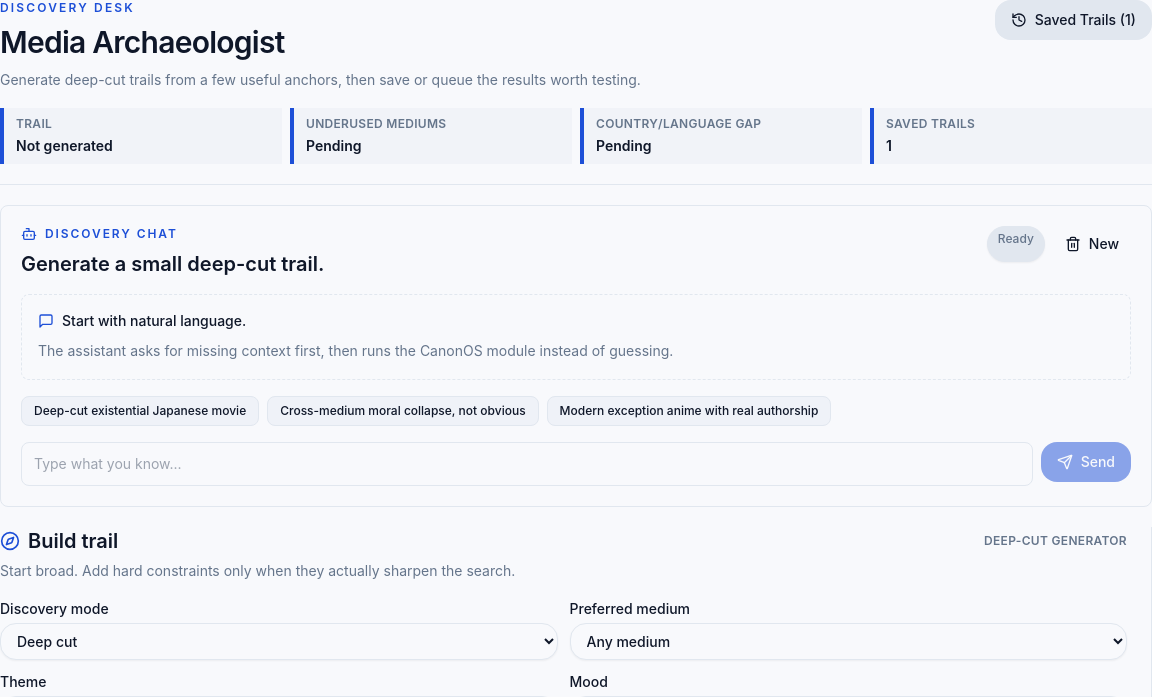
Test: MediaArchaeologistPage › shows and deletes saved trails
The width and height of the screenshot is (1152, 697).
What coordinates should you click on to do the following:
click the button "Saved Trails (1)"
I would click on:
 (1073, 20)
Its box is [995,0,1151,40].
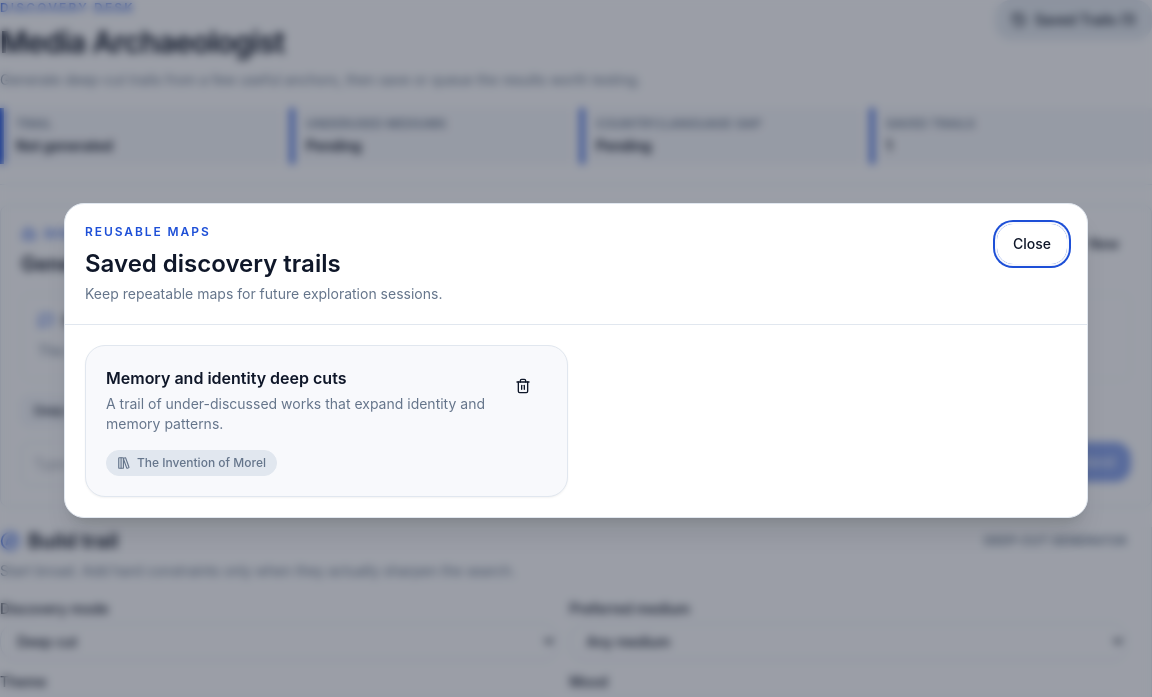
Result: the heading "Memory and identity deep cuts" is shown at [106,368,346,388]
What coordinates should you click on to do the following:
click the button named "delete memory and identity deep cuts"
I would click on:
 (523, 386)
Its box is [499,366,547,406].
(page scrolled)
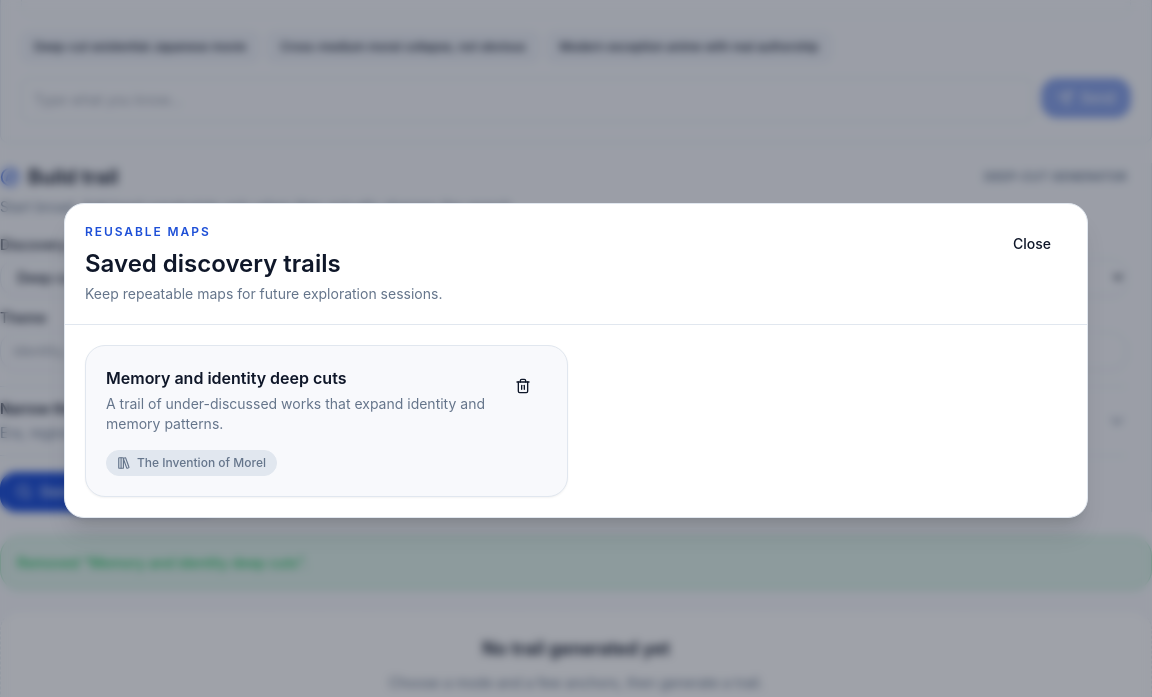
Result: the text "Removed “Memory and identity deep cuts”." is shown at [0,536,1151,590]
